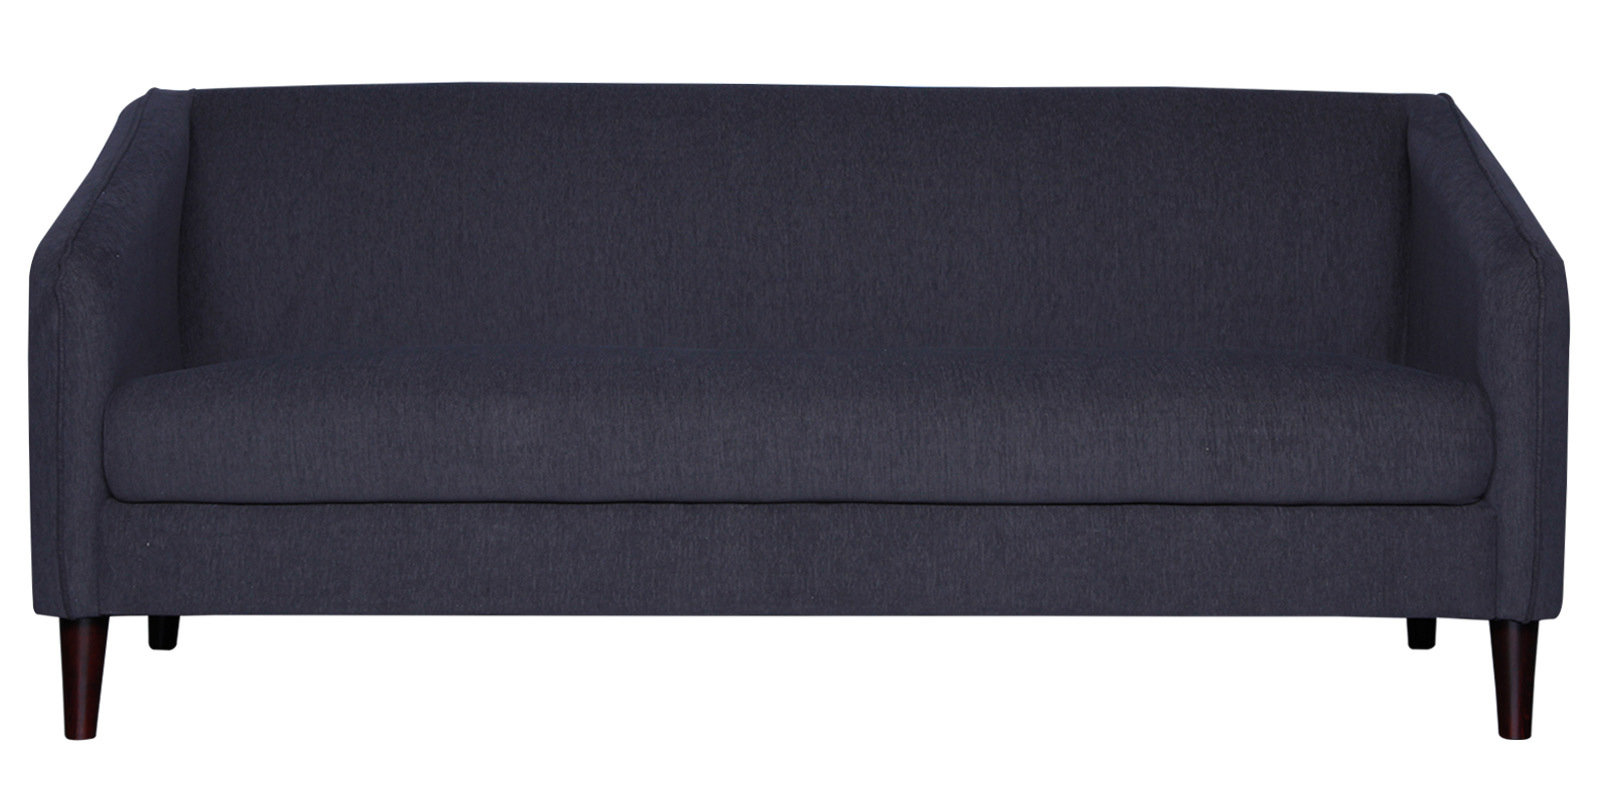Nina Three Seater Sofa in Charcoal Grey Colour by CasaCraft: (26, 80, 1570, 741)
